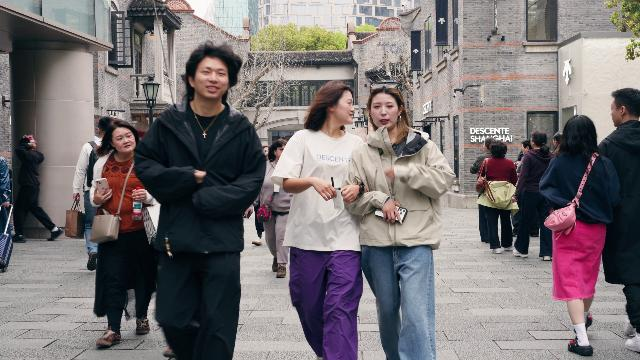person: (133, 40, 266, 360), (342, 84, 456, 360), (271, 80, 367, 360), (539, 115, 619, 356), (88, 119, 160, 347), (597, 87, 640, 354), (72, 116, 114, 271), (12, 134, 64, 243), (511, 131, 554, 257), (478, 140, 518, 254), (539, 131, 565, 261)
